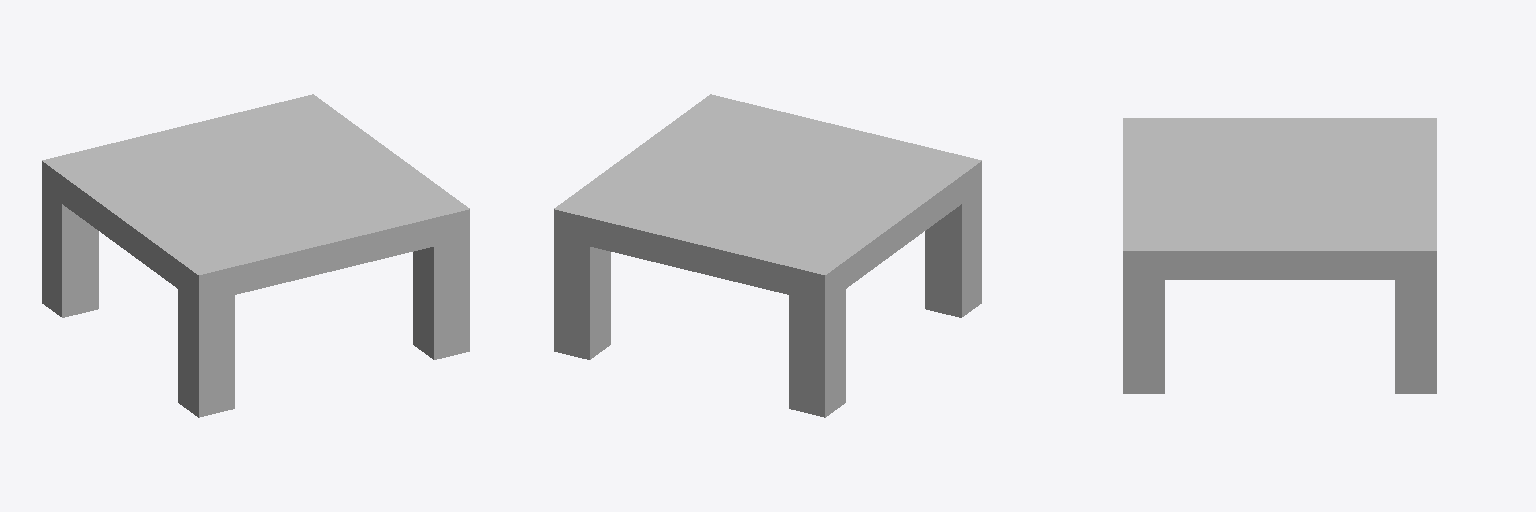
The model's file is FM_coffee_table.obj.
The picture shows the model from 3 angles: view 1: azimuth 30°, elevation 25°; view 2: azimuth 150°, elevation 25°; view 3: azimuth 270°, elevation 25°; orthographic projection.
Visible parts, largest first — view 1: Cube_Cube.001; view 2: Cube_Cube.001; view 3: Cube_Cube.001.
Boxes of the visible parts, x1=… form: Cube_Cube.001: x1=42, y1=94, x2=469, y2=417; Cube_Cube.001: x1=554, y1=94, x2=981, y2=417; Cube_Cube.001: x1=1123, y1=118, x2=1436, y2=393.
Bounding box in the file's own units: 1 × 0.5 × 1.